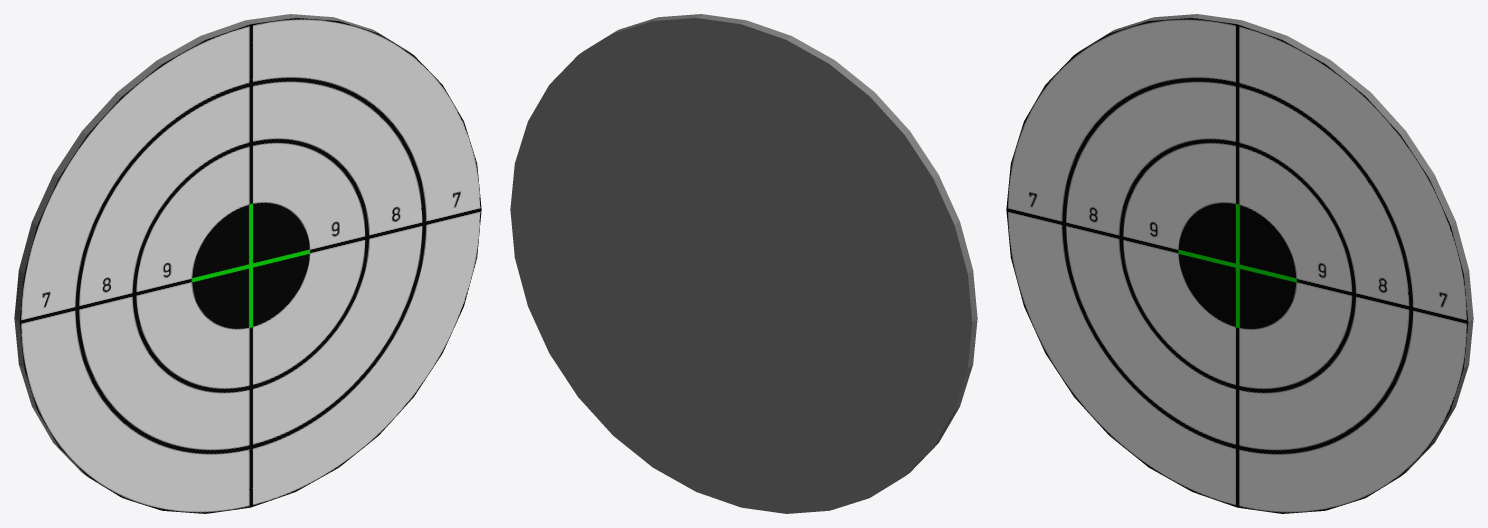
File: circle_target.glb
The picture shows the model from 3 angles, left to right: view 1: azimuth 30°, elevation 25°; view 2: azimuth 150°, elevation 25°; view 3: azimuth 330°, elevation 25°; orthographic projection.
Parts seen in each view (by area): view 1: Cylinder; view 2: Cylinder; view 3: Cylinder.
Boxes of the visible parts, x1,y1,x2,y2 form: Cylinder: (14, 14, 481, 513); Cylinder: (510, 14, 977, 513); Cylinder: (1006, 14, 1473, 513).
Bounding box in the file's own units: 0.5 × 0.5 × 0.01.
1 material, 1 textured.
